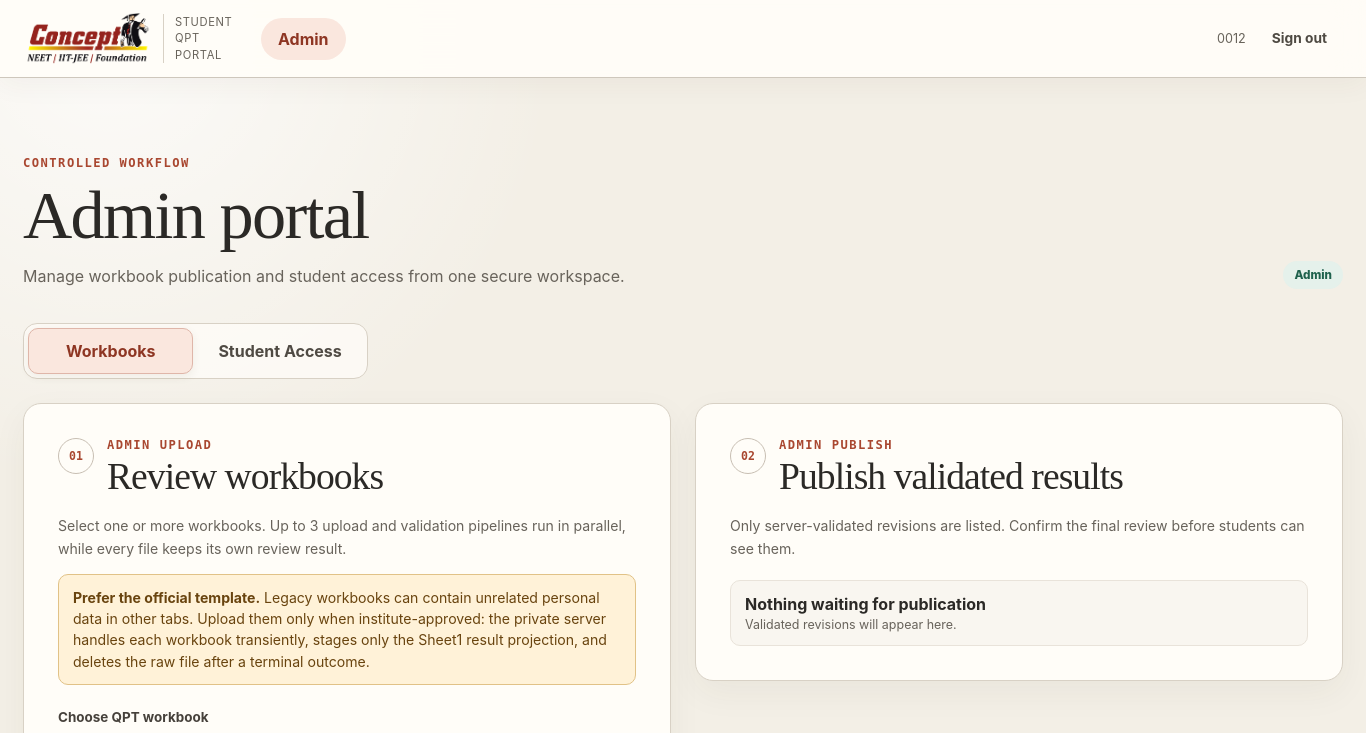
Test: student portal › uses one bulk action, confirms password replacement, and automatically downloads the complete file
Step 1. Click the tab "Student Access" → (280, 351), box [197,328,363,374]
(page scrolled)
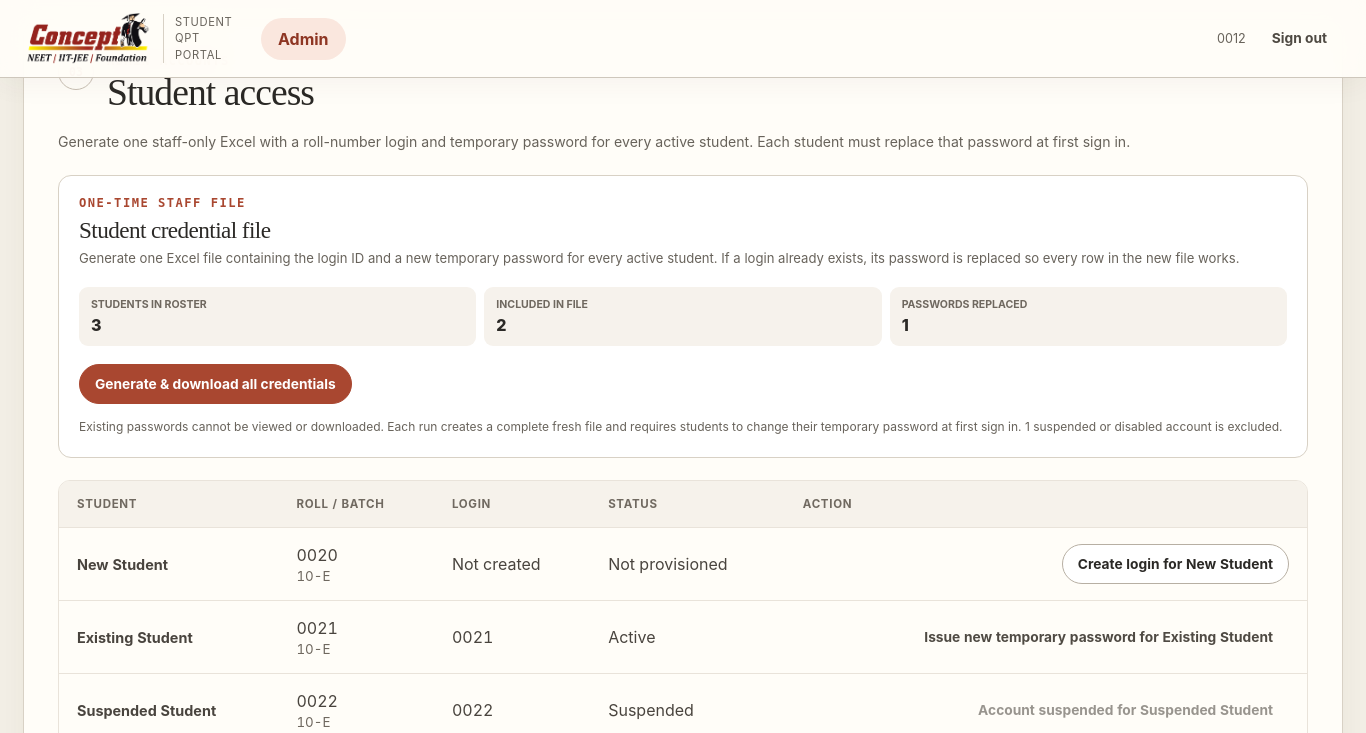
Step 2. Click the button "Generate & download all credentials" → (215, 384), box [79,364,352,404]
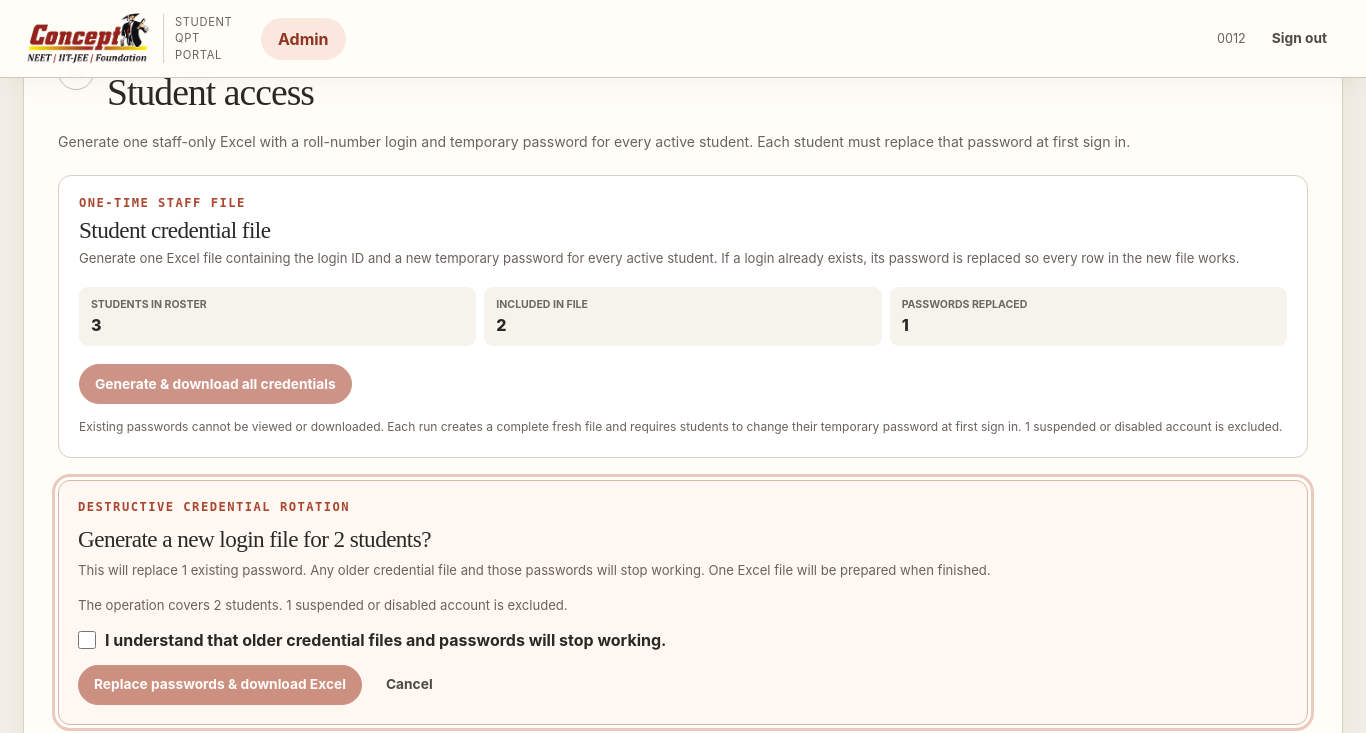
Now the heading "Generate a new login file for 2 students?" is shown, box [78,526,431,552]
Now the button "Replace passwords & download Excel" is disabled, box [78,664,362,704]
Step 3. Click the checkbox labelled "I understand that older credential files and passwords will stop working." → (87, 640), box [78,630,96,648]
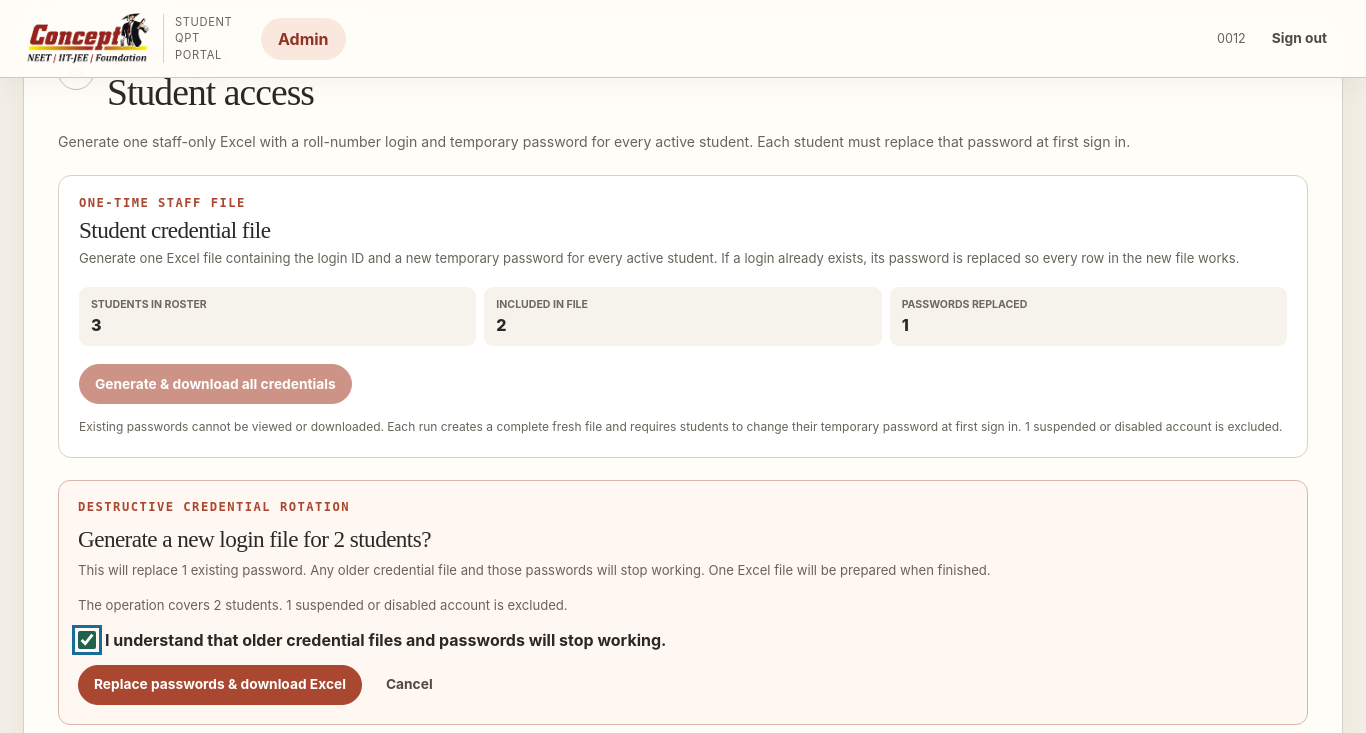
Step 4. Click the button "Replace passwords & download Excel" → (220, 684), box [78,664,362,704]
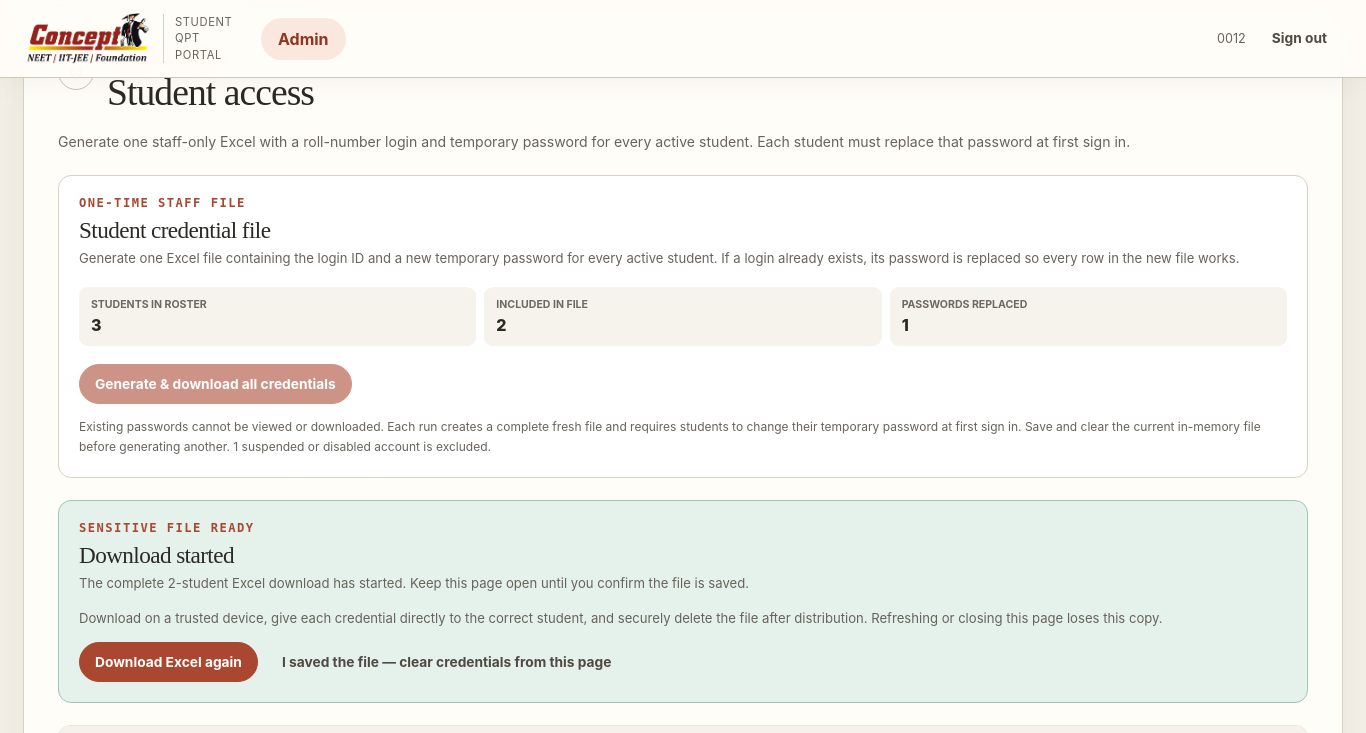
Now the heading "Download started" is shown, box [79,542,234,568]
Now the button "Download Excel again" is shown, box [79,642,258,682]
